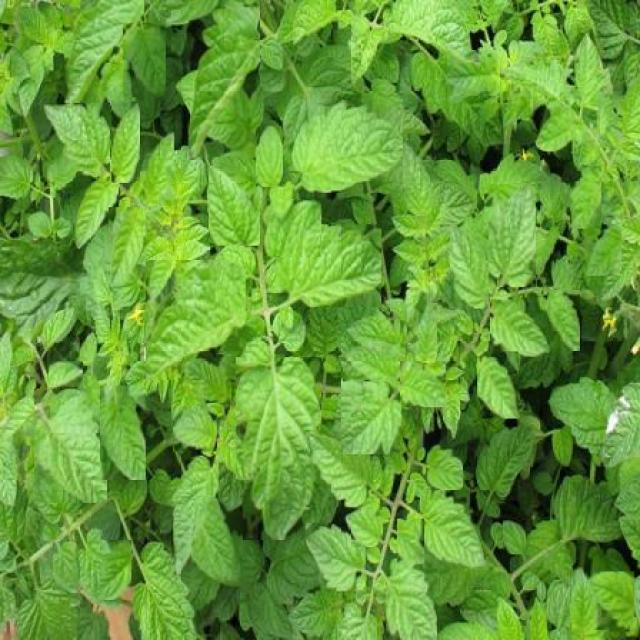Healthy: (237, 357, 322, 540), (146, 260, 246, 380), (189, 0, 261, 157), (294, 98, 403, 193), (276, 225, 381, 308), (64, 0, 144, 106), (34, 388, 107, 503), (172, 454, 218, 575), (484, 185, 536, 288), (305, 431, 372, 508), (43, 102, 110, 178), (423, 490, 486, 569), (340, 378, 401, 455), (191, 498, 243, 588), (475, 425, 534, 499), (100, 386, 146, 480), (385, 558, 437, 640), (208, 166, 260, 246), (306, 524, 366, 592), (490, 297, 550, 357), (448, 224, 489, 309), (76, 171, 120, 249), (263, 199, 321, 257), (123, 23, 166, 97), (110, 208, 146, 288), (346, 312, 406, 359), (477, 352, 519, 418), (589, 571, 634, 632), (573, 32, 607, 112), (446, 50, 500, 96), (343, 340, 403, 381), (112, 101, 141, 183), (183, 355, 231, 404), (143, 131, 174, 206), (402, 140, 432, 214), (400, 360, 446, 407), (570, 165, 601, 229), (173, 406, 217, 451), (547, 290, 580, 350), (100, 540, 132, 600), (586, 224, 621, 276), (572, 566, 598, 634), (536, 108, 576, 152), (426, 445, 464, 491), (256, 126, 283, 187), (344, 506, 383, 547), (413, 304, 437, 364), (54, 542, 79, 594), (397, 519, 424, 564), (48, 362, 83, 388), (503, 520, 526, 554)
